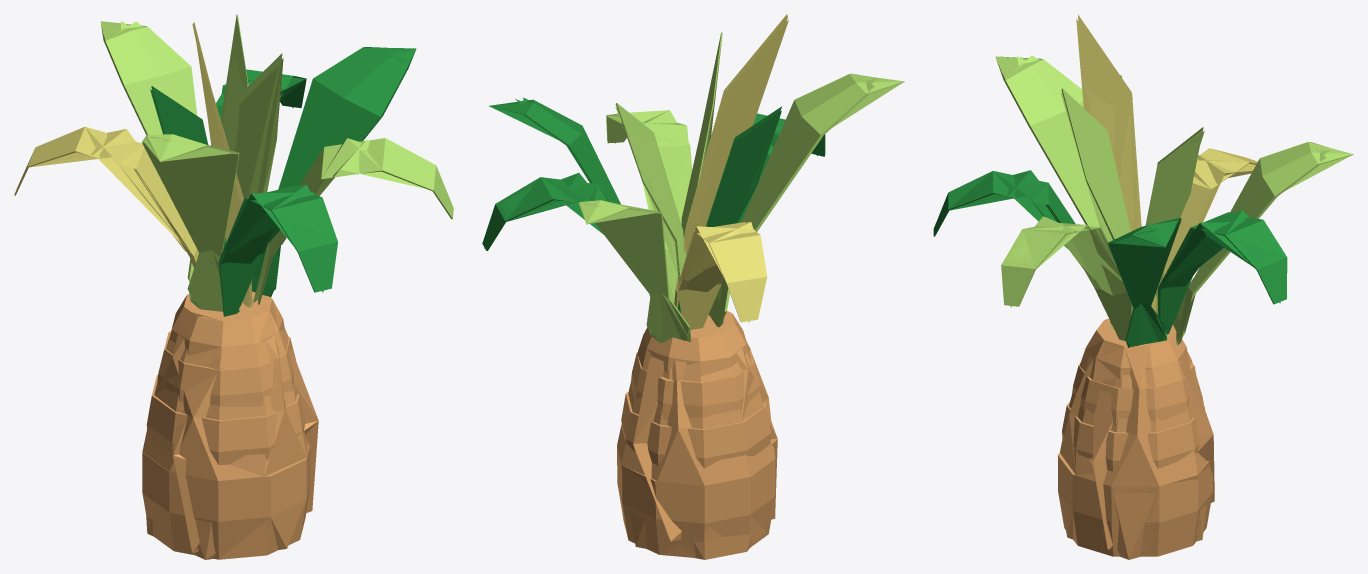
Rendered from palm_smallCala_LOD.fbx.
The picture shows the model from 3 angles, left to right: view 1: azimuth 30°, elevation 25°; view 2: azimuth 150°, elevation 25°; view 3: azimuth 270°, elevation 25°; orthographic projection. The views are drawn at different scales.
Parts seen in each view (by area): view 1: palm_small0, palm_small2, palm_small1, palm_small3; view 2: palm_small0, palm_small2, palm_small1, palm_small3; view 3: palm_small0, palm_small2, palm_small1, palm_small3.
Boxes of the visible parts, bbox=[...] form: palm_small0: bbox=[14, 14, 453, 559]; palm_small2: bbox=[28, 21, 435, 559]; palm_small1: bbox=[79, 25, 407, 559]; palm_small3: bbox=[37, 21, 424, 553]; palm_small0: bbox=[482, 14, 904, 555]; palm_small2: bbox=[484, 20, 874, 559]; palm_small1: bbox=[489, 31, 901, 557]; palm_small3: bbox=[515, 78, 877, 541]; palm_small0: bbox=[933, 14, 1353, 556]; palm_small2: bbox=[948, 19, 1325, 559]; palm_small1: bbox=[996, 59, 1350, 556]; palm_small3: bbox=[957, 56, 1329, 549].
Bounding box in the file's own units: 212 × 313 × 246.
